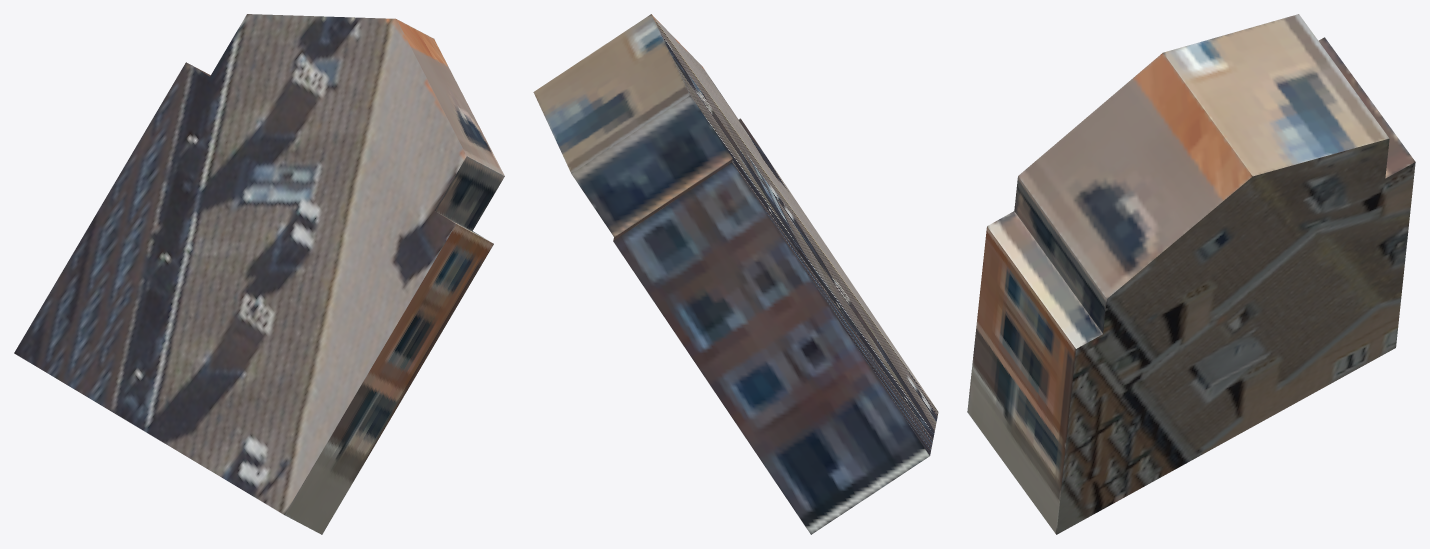
3 views of the same model, side by side, from view 1: azimuth 30°, elevation 25°; view 2: azimuth 150°, elevation 25°; view 3: azimuth 270°, elevation 25° (orthographic). The views are drawn at different scales.
Visible parts, largest first — view 1: BAG_0599100000650055 (×2); view 2: BAG_0599100000650055 (×2); view 3: BAG_0599100000650055 (×2).
Boxes of the visible parts, x1,y1,x2,y2 form: BAG_0599100000650055 (×2): (14,14,504,534); BAG_0599100000650055 (×2): (533,14,938,534); BAG_0599100000650055 (×2): (967,14,1415,534).
Bounding box in the file's own units: 17.29 × 18.38 × 13.53.
Materials: 1 (1 with a texture image).
